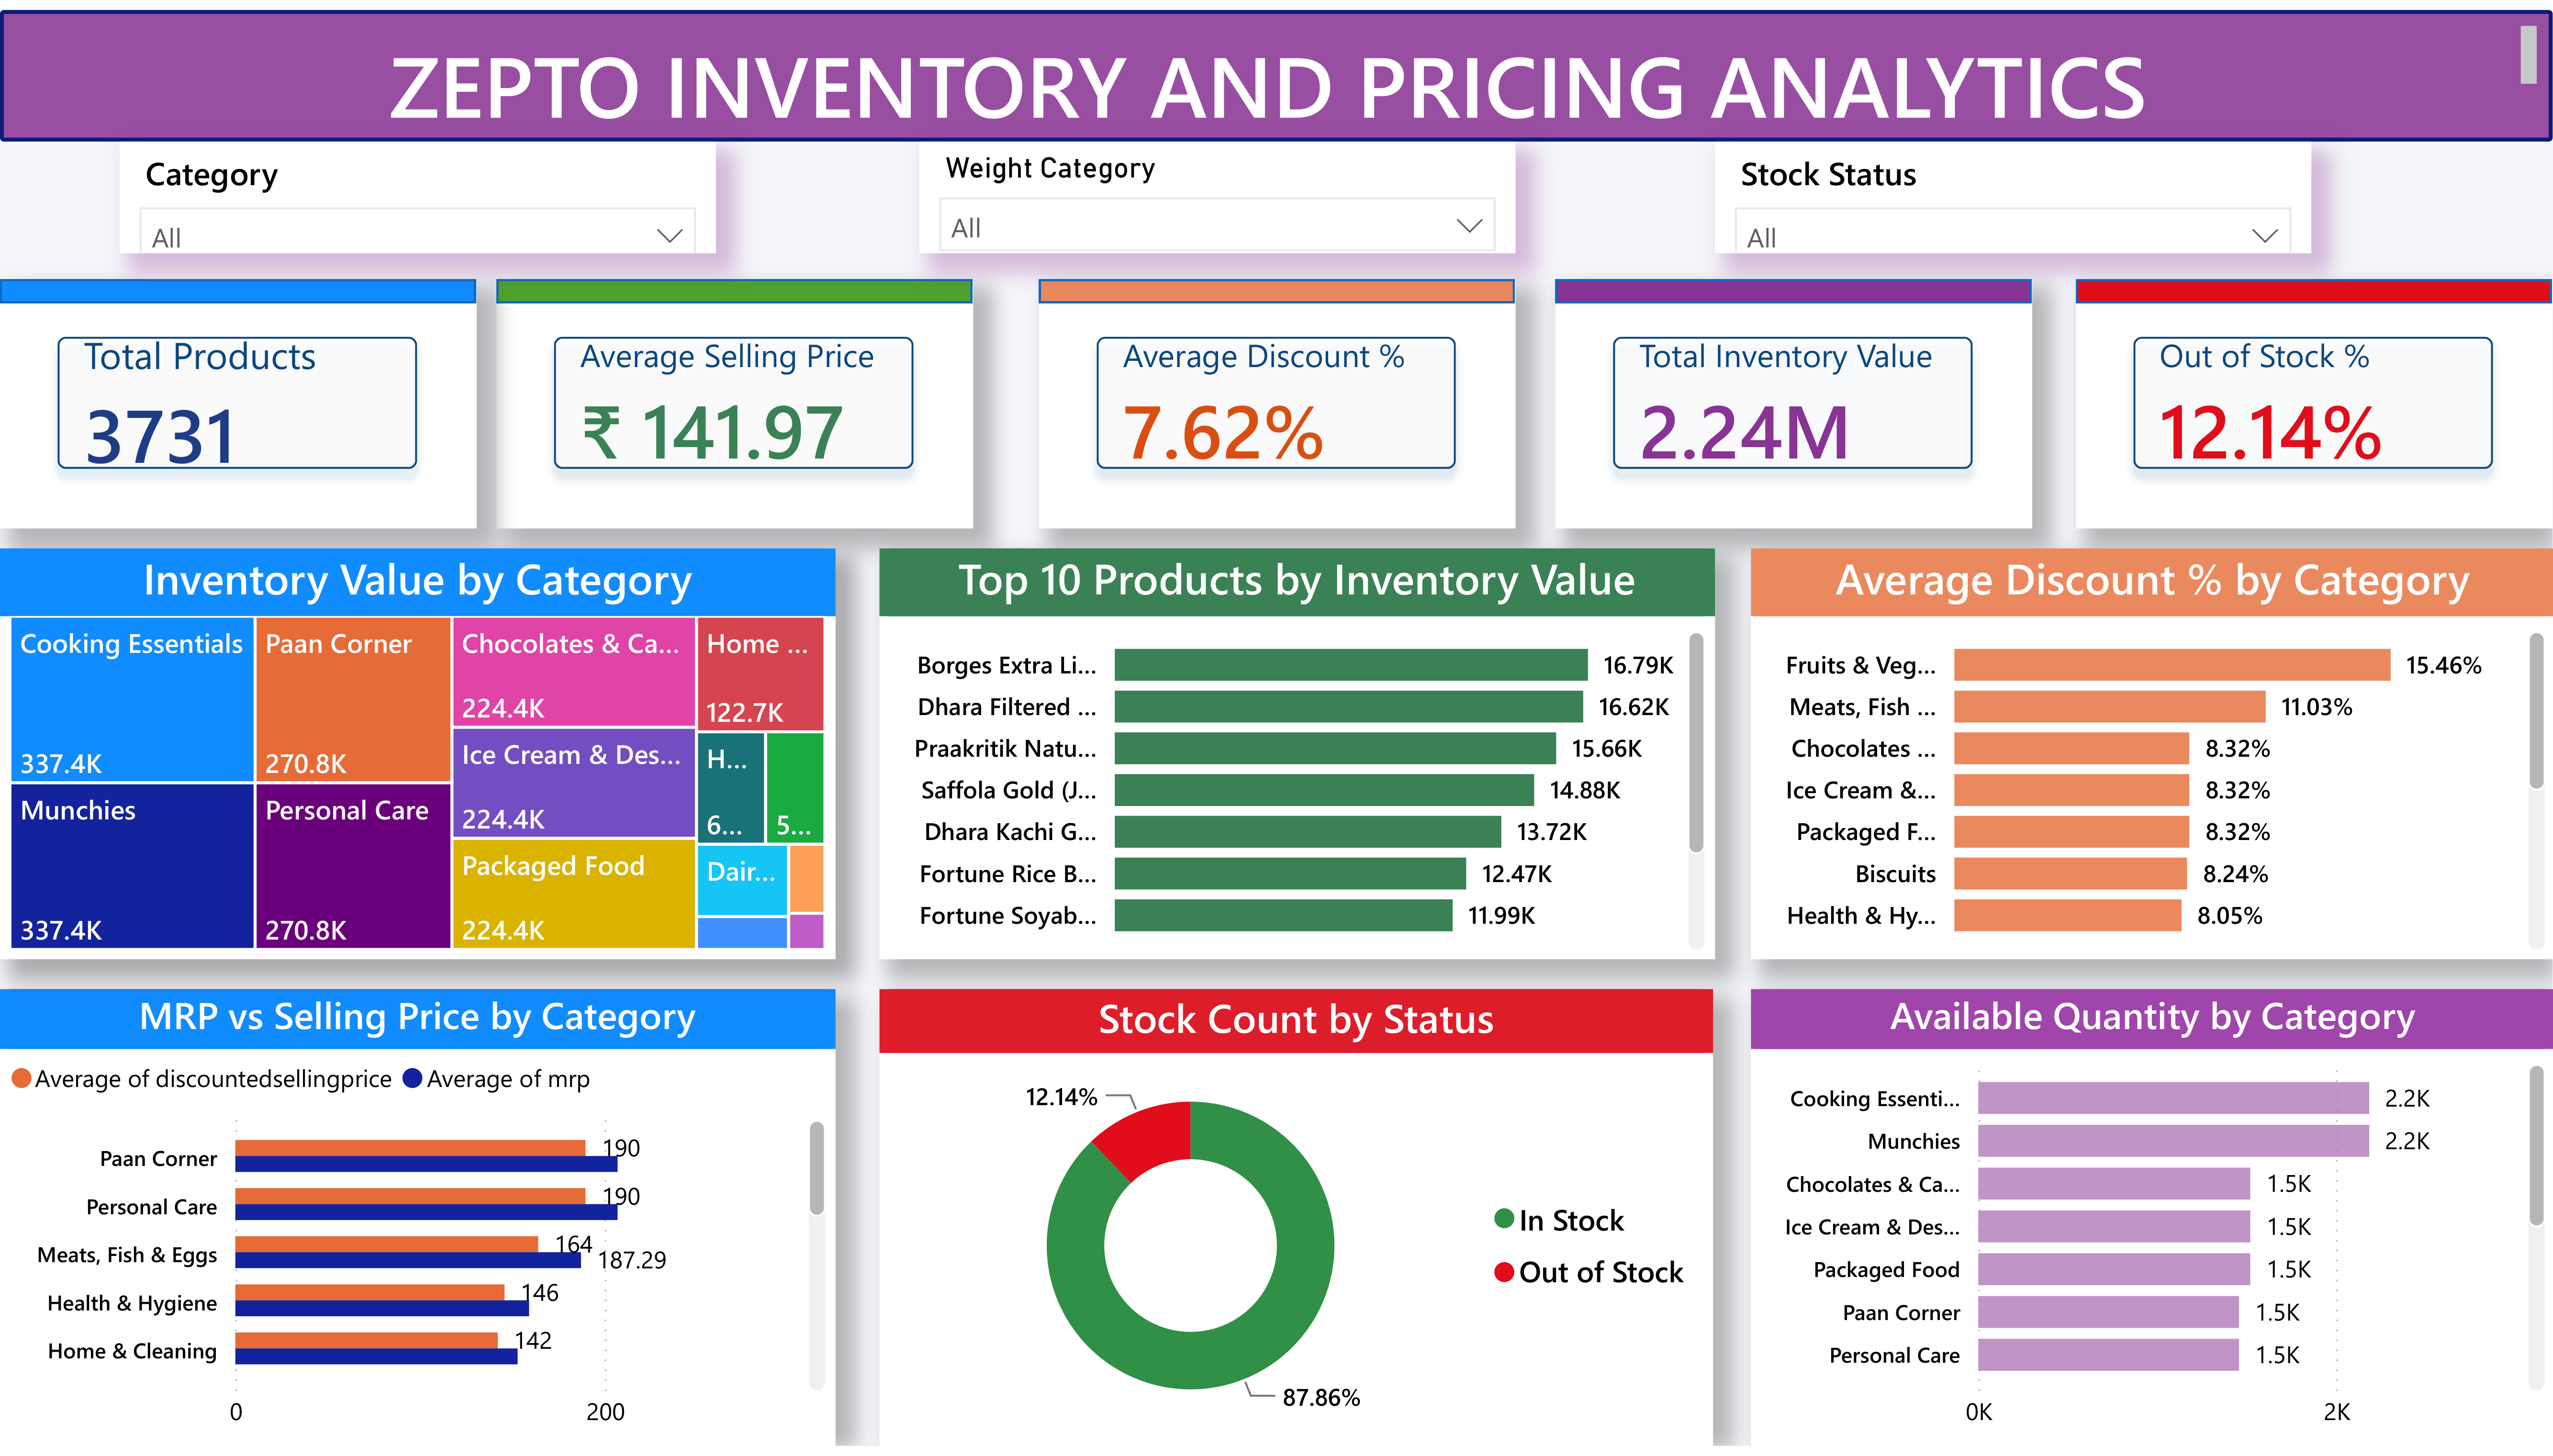

The dashboard page shown, as its layout file describes it:
{"tool":"powerbi","page":{"name":"Page 1","canvas":[1280,720],"ordinal":0},"visuals":[{"type":"textbox","box":[0,0,1280,66],"z":0},{"type":"cardVisual","fields":{"Data":["final_zepto_cleaned.Average Selling Price"]},"box":[249.1,135.1,238.6,124.5],"z":1000},{"type":"cardVisual","fields":{"Data":["final_zepto_cleaned.Average Discount %"]},"box":[520.7,135.1,238.6,124.5],"z":2000},{"type":"cardVisual","fields":{"Data":["Sum(final_zepto_cleaned.Inventory Value)"]},"box":[780.3,135.1,238.6,124.5],"z":3000},{"type":"cardVisual","fields":{"Data":["final_zepto_cleaned.Out of Stock %"]},"box":[1041.4,135.1,238.6,124.5],"z":4000},{"type":"cardVisual","fields":{"Data":["final_zepto_cleaned.Total Products"]},"box":[0,135.1,238.6,124.5],"z":5000},{"type":"shape","box":[0,135.1,238.6,12],"z":6000},{"type":"shape","box":[249.1,135.1,238.6,12],"z":7000},{"type":"shape","box":[520.7,135.1,238.6,12],"z":8000},{"type":"shape","box":[780.3,135.1,238.6,12],"z":9000},{"type":"shape","box":[1041.4,135.1,238.6,12],"z":10000},{"type":"clusteredBarChart","title":"Top 10 Products by  Inventory Value","fields":{"Category":["final_zepto_cleaned.name"],"Y":["final_zepto_cleaned.Total Inventory Value"]},"box":[441.2,270.1,418.7,205.6],"z":12000},{"type":"clusteredBarChart","title":"Average Discount % by Category","fields":{"Y":["final_zepto_cleaned.Average Discount %"],"Category":["final_zepto_cleaned.category"]},"box":[877.8,270.1,403,205.6],"z":13000},{"type":"donutChart","fields":{"Category":["Stock Status.Status"],"Y":["final_zepto_cleaned.Stock Count"]},"box":[441.2,490.7,418,229.6],"z":14000},{"type":"clusteredBarChart","title":"MRP vs Selling Price by Category","fields":{"Category":["final_zepto_cleaned.category"],"Y":["Avg(final_zepto_cleaned.discountedsellingprice)","Avg(final_zepto_cleaned.mrp)"]},"box":[0,490.7,418.7,229.6],"z":15000},{"type":"clusteredBarChart","title":"Available Quantity by Category","fields":{"Category":["final_zepto_cleaned.category"],"Y":["Sum(final_zepto_cleaned.availablequantity)"]},"box":[877.8,490.7,403,229.6],"z":16000},{"type":"slicer","fields":{"Values":["final_zepto_cleaned.category"]},"box":[60,66,298.6,55.5],"z":17000},{"type":"slicer","fields":{"Values":["final_zepto_cleaned.Weight Category"]},"box":[460.7,66,298.6,55.5],"z":18000},{"type":"slicer","fields":{"Values":["final_zepto_cleaned.outofstock"]},"box":[859.8,66,298.6,55.5],"z":19000},{"type":"treemap","title":"Inventory Value by Category","fields":{"Group":["final_zepto_cleaned.category"],"Values":["final_zepto_cleaned.Total Inventory Value"]},"box":[0,270.1,418.7,205.6],"z":19001}]}

Visuals, with their boxes in screenshot pixels (x1, y1, x2, y2), scaled from the page's 1280x720 canvas onto the 2553x1456 screenshot:
textbox: [0,0,2553,134]
cardVisual - final_zepto_cleaned.Average Selling Price: [497,273,973,525]
cardVisual - final_zepto_cleaned.Average Discount %: [1039,273,1514,525]
cardVisual - Sum(final_zepto_cleaned.Inventory Value): [1556,273,2032,525]
cardVisual - final_zepto_cleaned.Out of Stock %: [2077,273,2553,525]
cardVisual - final_zepto_cleaned.Total Products: [0,273,476,525]
shape: [0,273,476,297]
shape: [497,273,973,297]
shape: [1039,273,1514,297]
shape: [1556,273,2032,297]
shape: [2077,273,2553,297]
"Top 10 Products by  Inventory Value" clusteredBarChart: [880,546,1715,962]
"Average Discount % by Category" clusteredBarChart: [1751,546,2553,962]
donutChart - Stock Status.Status x final_zepto_cleaned.Stock Count: [880,992,1713,1456]
"MRP vs Selling Price by Category" clusteredBarChart: [0,992,835,1456]
"Available Quantity by Category" clusteredBarChart: [1751,992,2553,1456]
slicer - final_zepto_cleaned.category: [120,134,715,246]
slicer - final_zepto_cleaned.Weight Category: [919,134,1514,246]
slicer - final_zepto_cleaned.outofstock: [1715,134,2310,246]
"Inventory Value by Category" treemap: [0,546,835,962]
